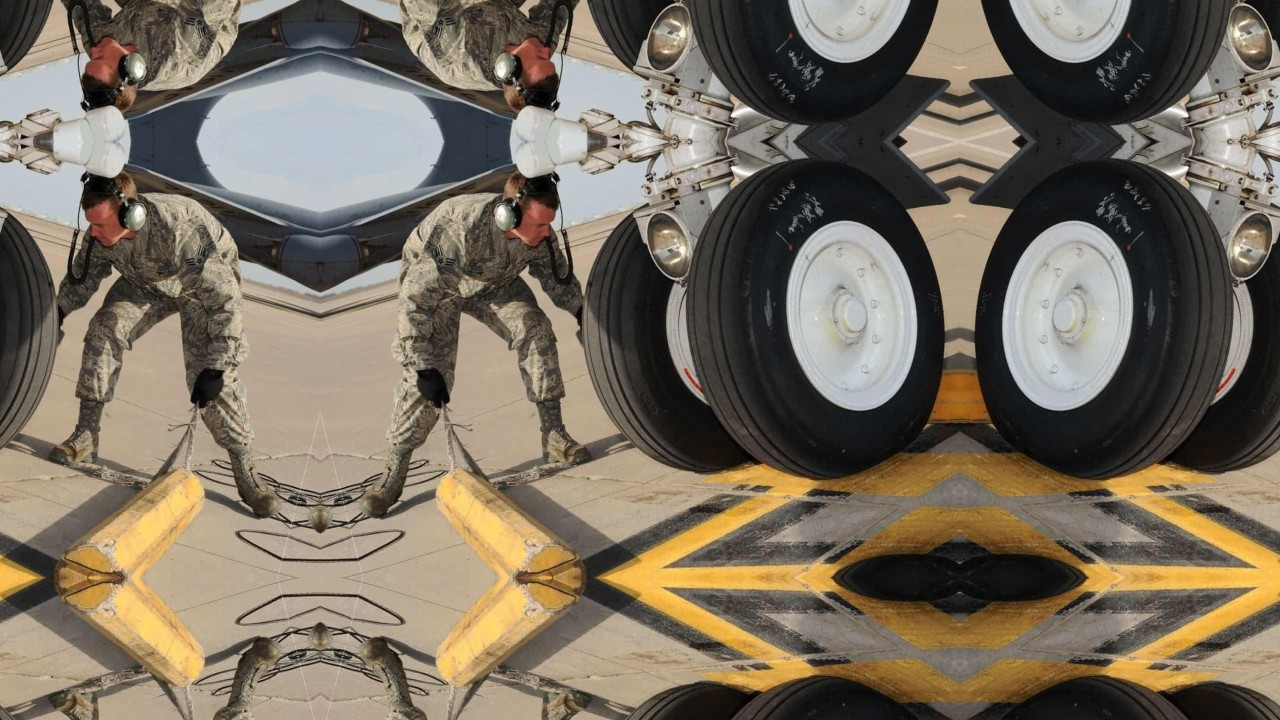chock: (48, 439, 213, 578), (427, 439, 592, 578), (48, 578, 213, 717), (427, 578, 592, 717)
wheel: (649, 142, 960, 502), (960, 142, 1271, 502), (553, 191, 763, 496), (649, 0, 960, 142), (960, 0, 1271, 142), (1157, 191, 1280, 496), (0, 191, 87, 496), (649, 654, 960, 720), (960, 654, 1271, 720), (553, 0, 763, 92), (553, 660, 763, 720), (1157, 0, 1280, 92), (0, 0, 87, 92), (1157, 660, 1280, 720)
